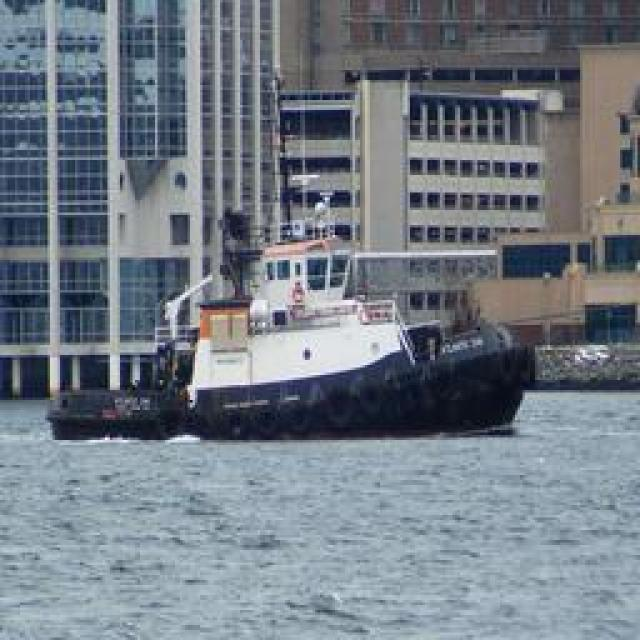ship2: (49, 114, 535, 443)
